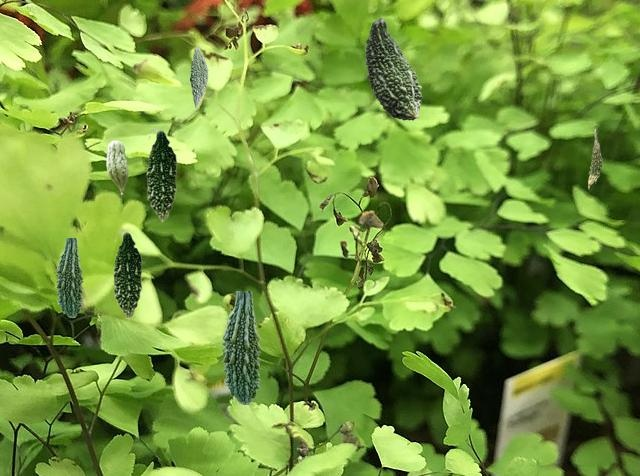ampalaya: (365, 17, 421, 119), (221, 291, 260, 403), (146, 128, 178, 221), (113, 230, 143, 318), (55, 238, 82, 316), (106, 140, 127, 195), (190, 42, 207, 106), (588, 129, 601, 188)
